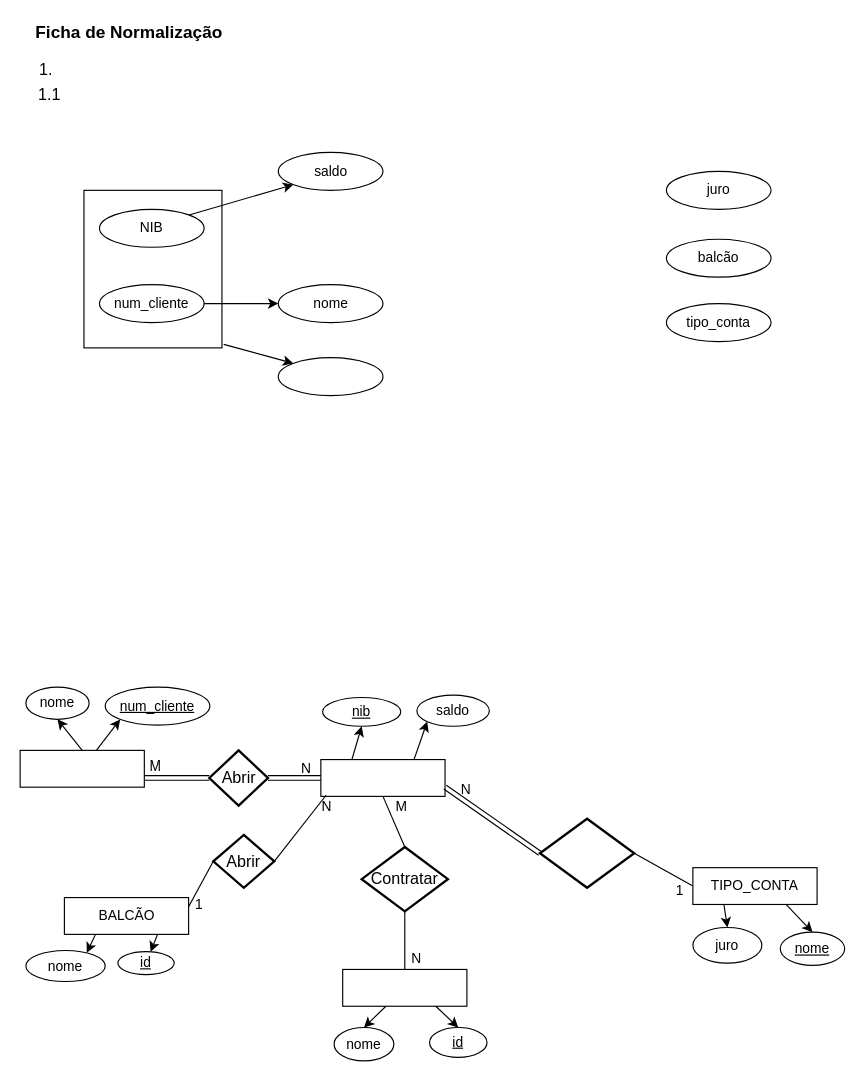
Image size: 865x1081. Some labels were removed from this diagram. Here are the shapes that lost their labels. From the top down, the centre of each, then its label:
(x=330, y=376): titular
(x=81, y=768): CLIENTE
(x=382, y=777): CONTA
(x=586, y=852): Pertencer
(x=404, y=987): EXTRA
